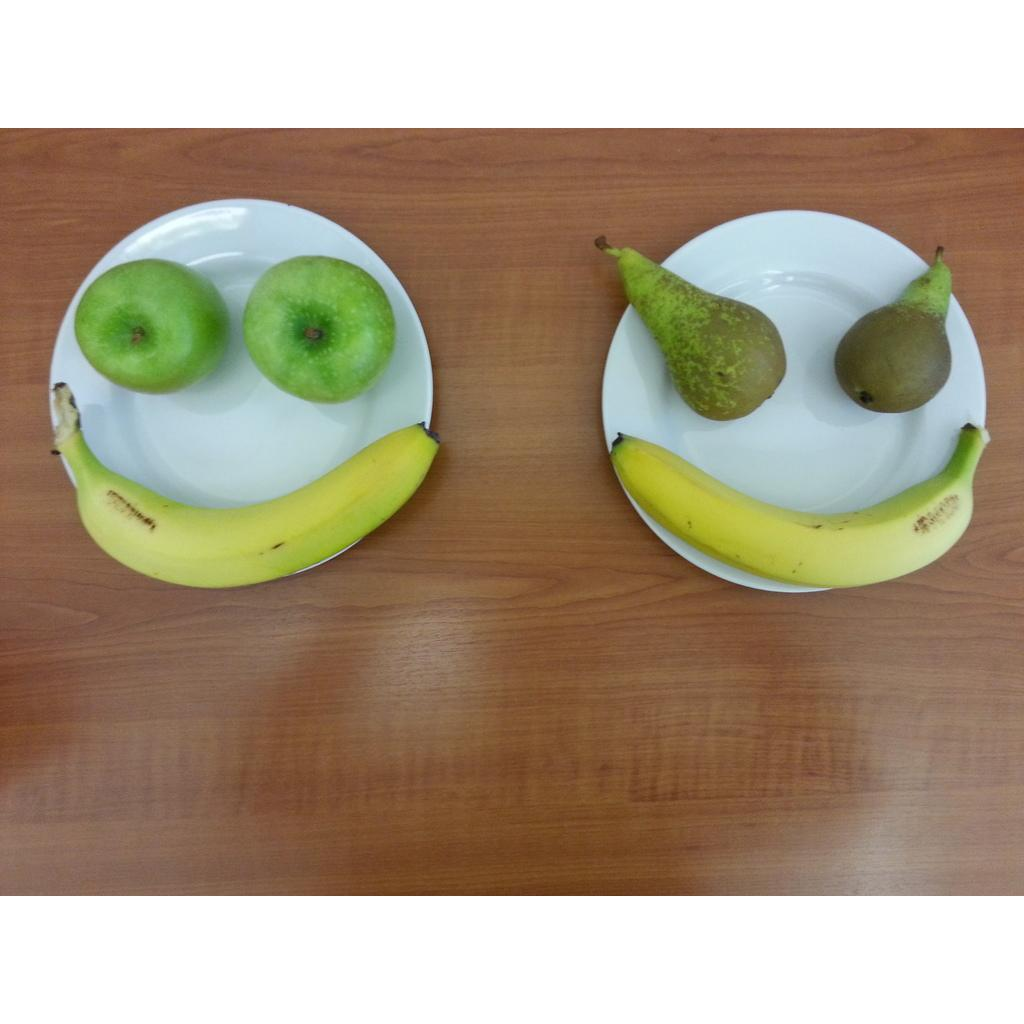banana: (48, 377, 441, 591), (610, 424, 990, 589)
